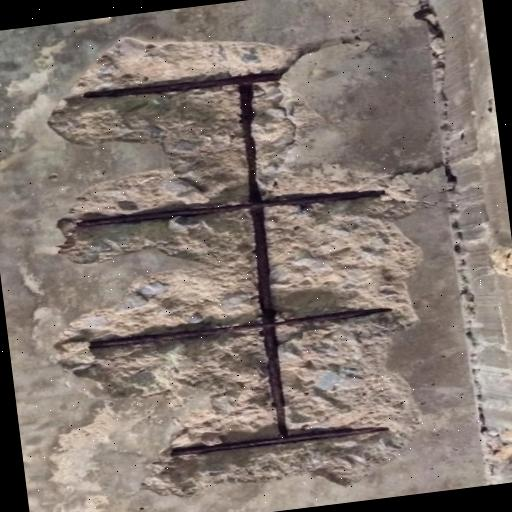spalling: (20, 9, 451, 512)
